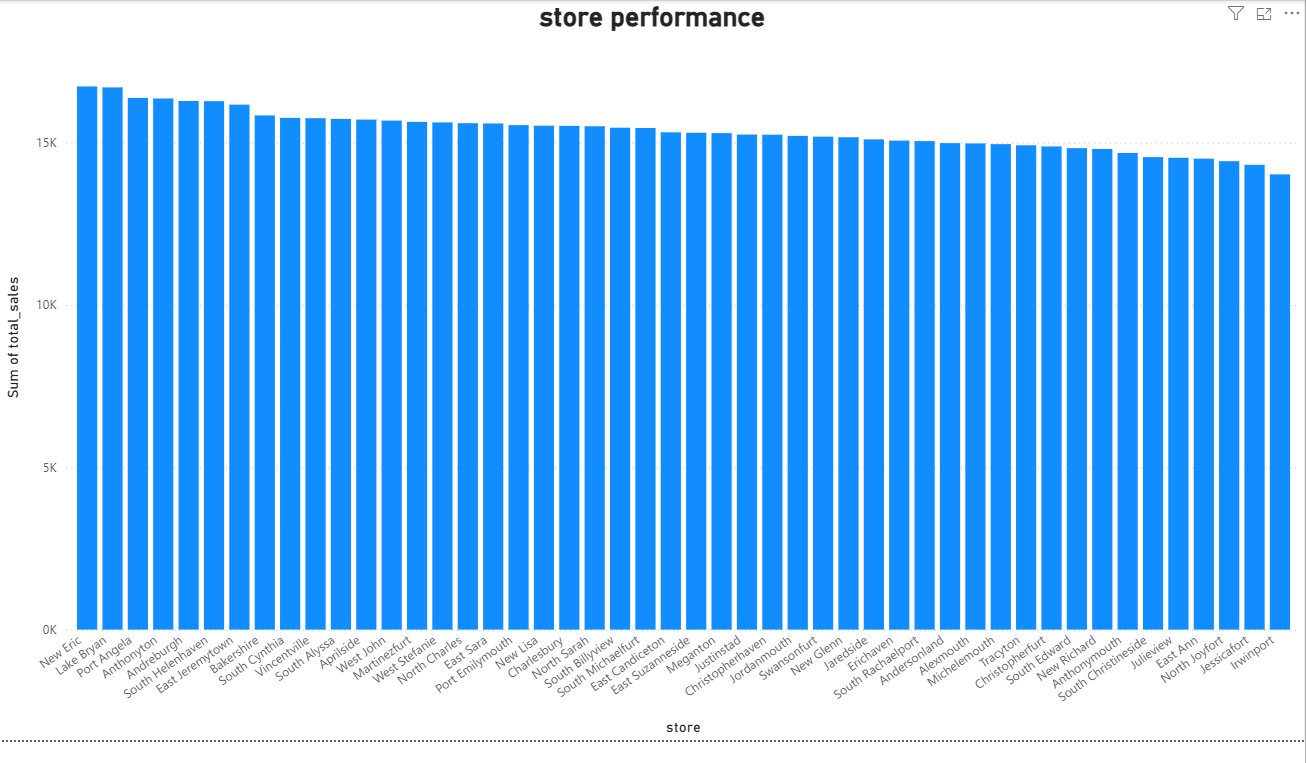

This screenshot's page, from the dashboard's own definition file:
{"tool":"powerbi","page":{"name":"Page 2","canvas":[1280,720],"ordinal":1},"visuals":[{"type":"columnChart","title":"store performance","fields":{"Category":["Gold vw_store_performance.store"],"Y":["Sum(Gold vw_store_performance.total_sales)"]},"box":[9.6,0,1270.7,720.4],"z":0}]}

Visuals, with their boxes on the page's 1280x720 design canvas (x1, y1, x2, y2). These are canvas units, not pixel positions in the 1306x763 screenshot, which may show the page scaled, cropped or inside an application window:
"store performance" columnChart: [left=10, top=0, right=1280, bottom=720]
